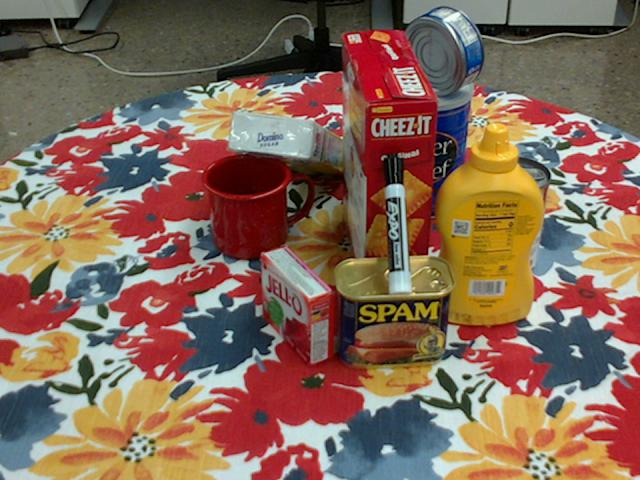cracker_box: (341, 32, 437, 304)
gelatin_box: (262, 244, 335, 365)
large_marker: (381, 152, 412, 294)
master_chef_can: (374, 65, 472, 220)
mug: (203, 153, 315, 259)
mustard_bottle: (430, 123, 544, 325)
potted_meat_can: (336, 255, 456, 369)
sugar_box: (229, 111, 353, 176)
tomato_soup_can: (473, 156, 550, 275)
tuna_fish_can: (399, 7, 483, 95)
